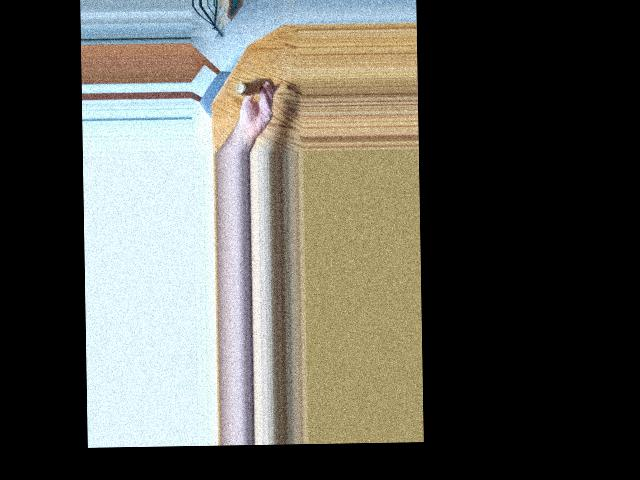sweet_potato: (240, 77, 274, 90)
